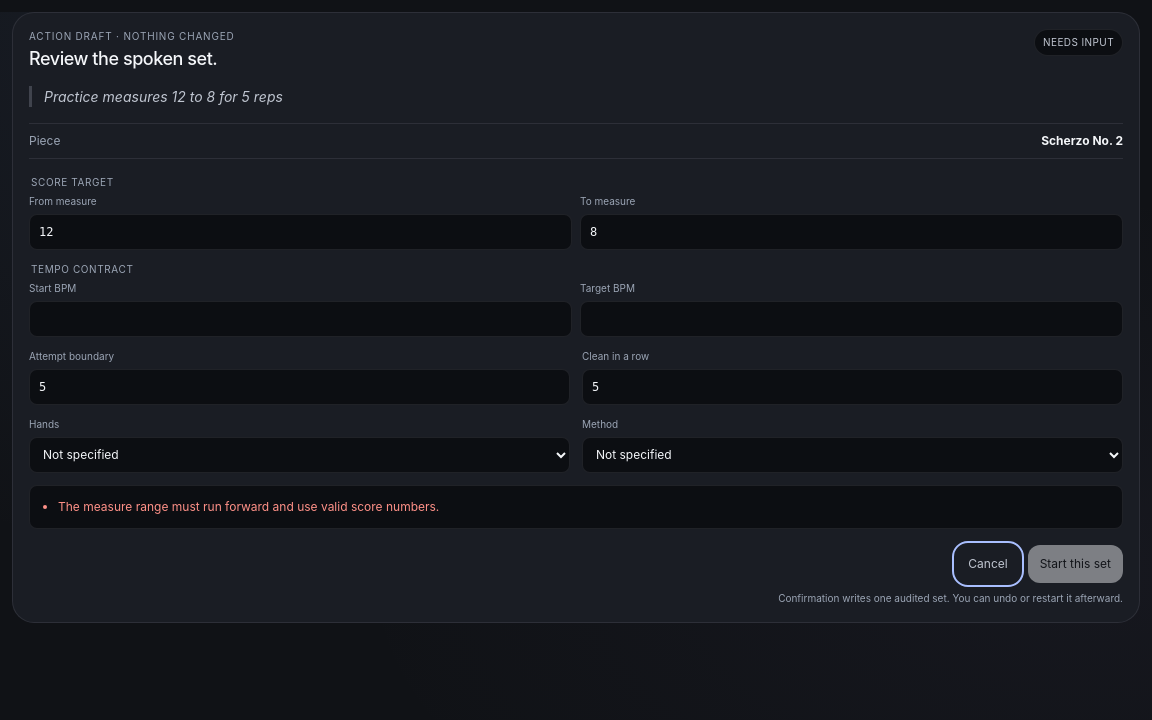
Test: ActionDraftCard › blocks confirmation until an invalid spoken range is corrected
The width and height of the screenshot is (1152, 720).
Expected: the button "Start this set" is disabled, top-left (1028, 545), bottom-right (1123, 583)
Expected: the list item "measure range must run forward" is shown, top-left (58, 499), bottom-right (439, 514)
Replace the text in the number field named "Draft end measure" with "18": (852, 232) top-left (580, 214), bottom-right (1123, 250)
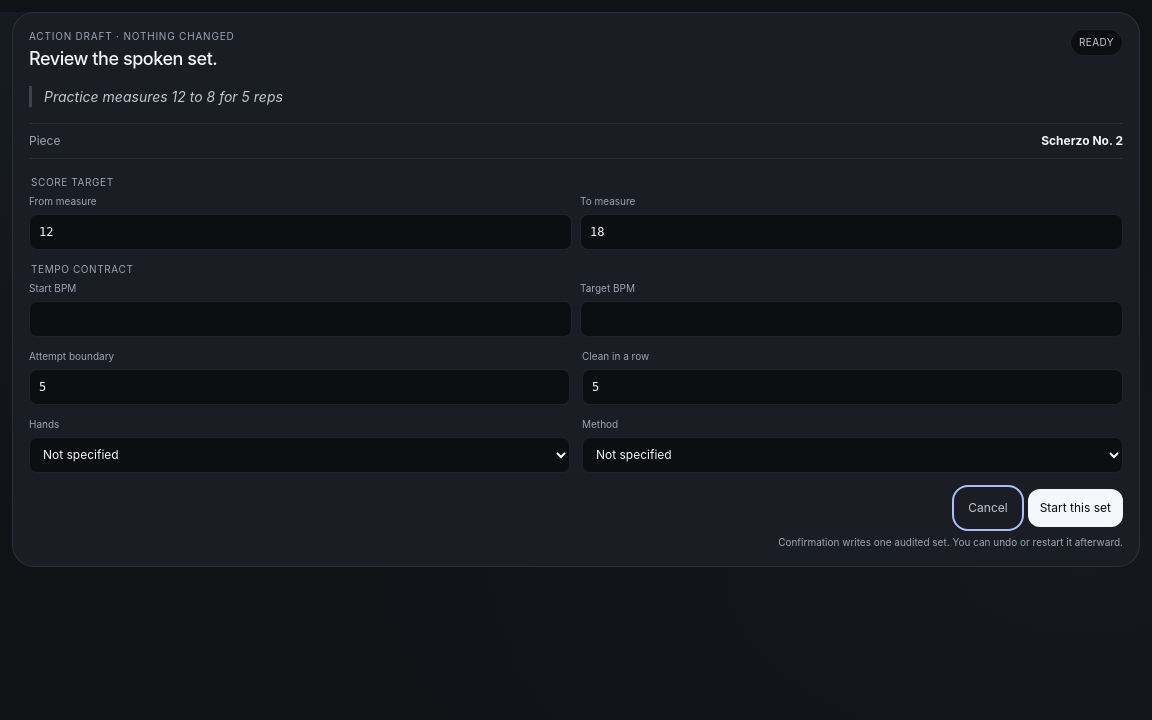
Expected: the button "Start this set" is enabled, top-left (1028, 489), bottom-right (1123, 527)
